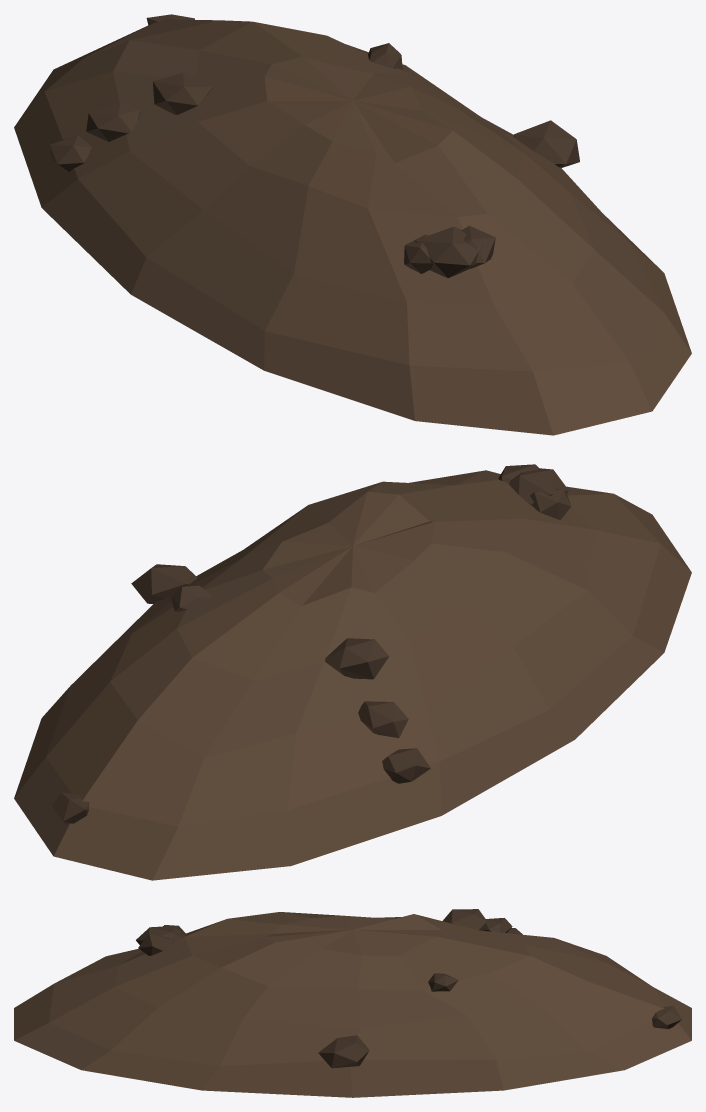
File: grave_mound.glb
The picture shows the model from 3 angles, top to bottom: view 1: azimuth 30°, elevation 25°; view 2: azimuth 150°, elevation 25°; view 3: azimuth 270°, elevation 25°; orthographic projection. The views are drawn at different scales.
Parts seen in each view (by area): view 1: grave_mound; view 2: grave_mound; view 3: grave_mound.
Part boxes in pixels (x1,y1,x2,y2): grave_mound: (14,14,691,435); grave_mound: (14,464,691,880); grave_mound: (14,909,691,1097).
Bounding box in the file's own units: 1 × 0.3048 × 1.95.
